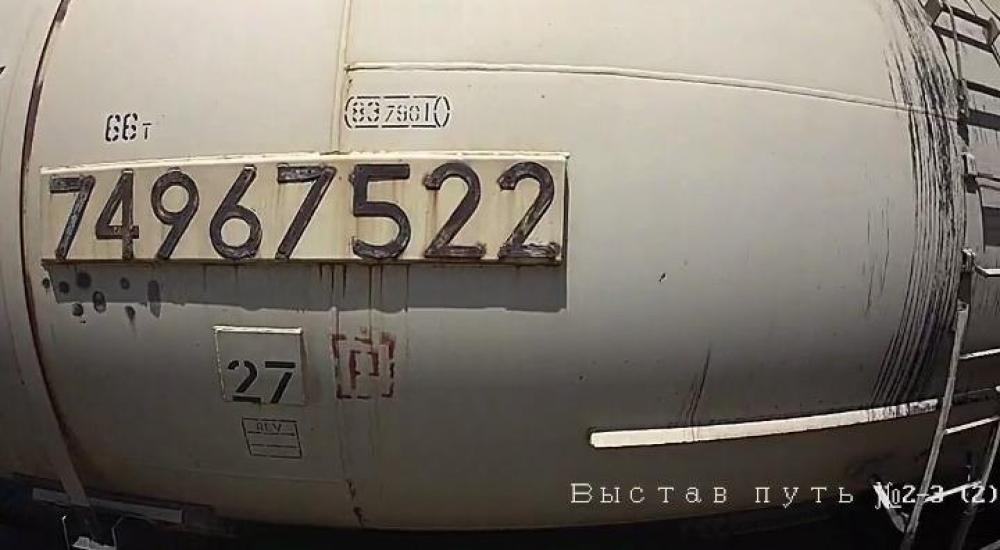Wagon-number: (37, 158, 564, 266)
